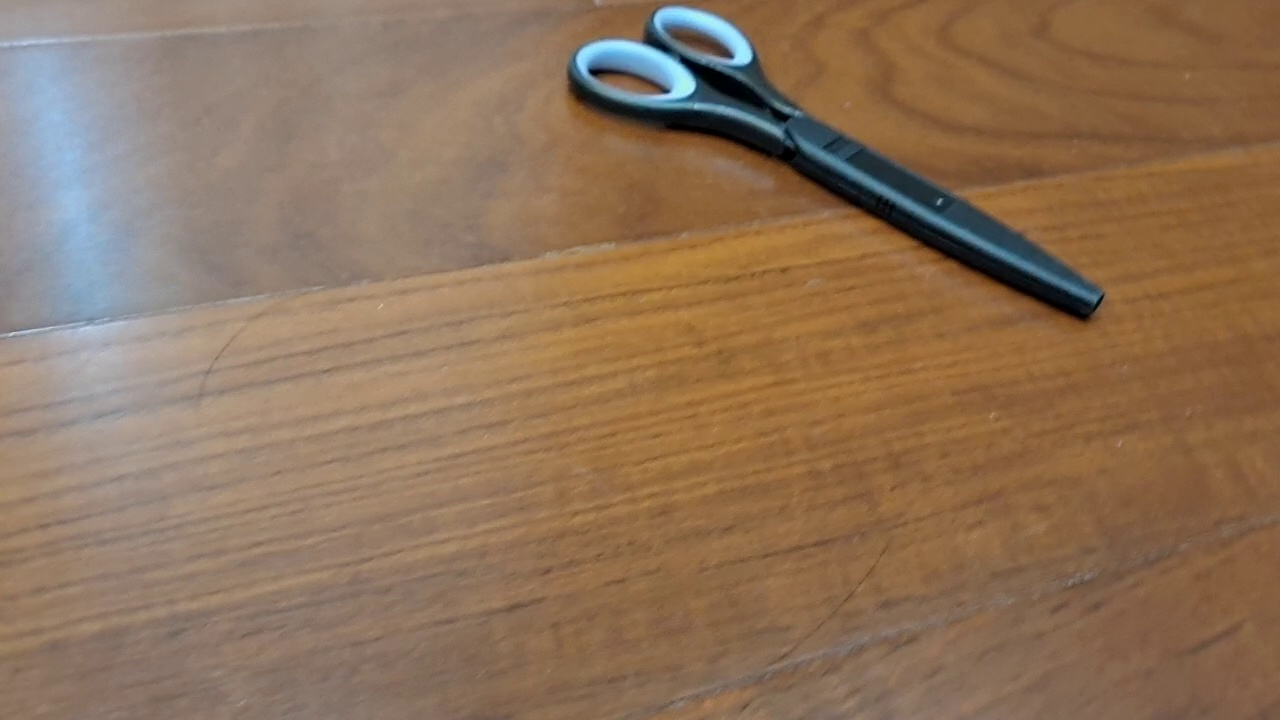scissors: (564, 2, 1107, 323)
